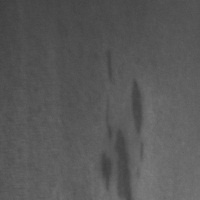inclusion: (97, 94, 139, 199), (125, 73, 147, 140), (102, 43, 119, 90)
